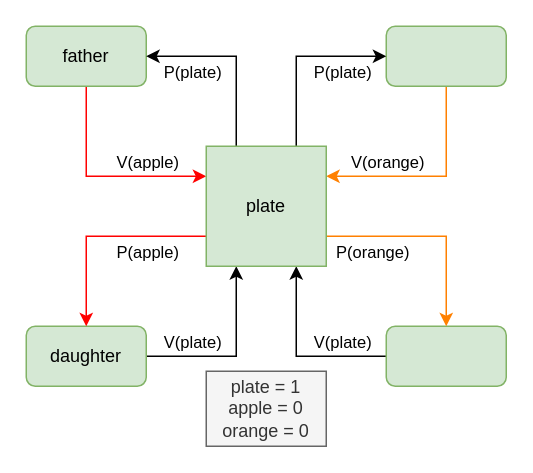
The diagram is 533 pixels wide and 473 high, and some of its shapes have lost their labels. The box of each missing label's shape, as (x1, y1, x2, y2) in pixels:
mother: (385, 25, 506, 86)
son: (385, 325, 506, 386)
